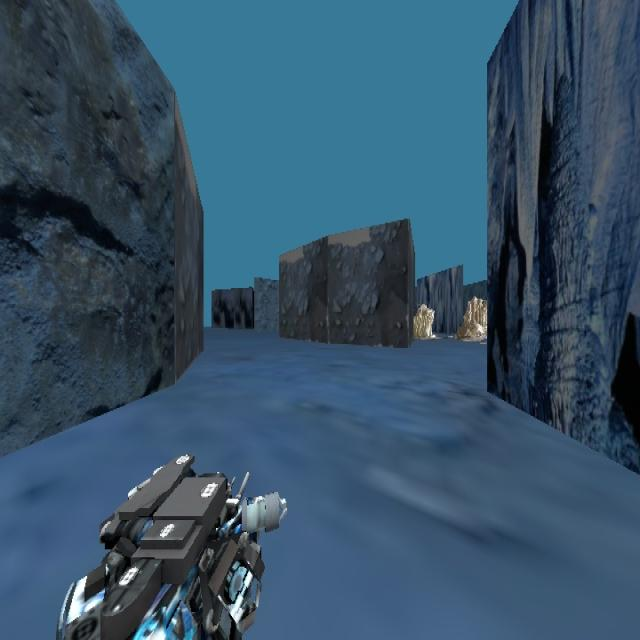Ice: (462, 294, 491, 344), (411, 298, 440, 346)
